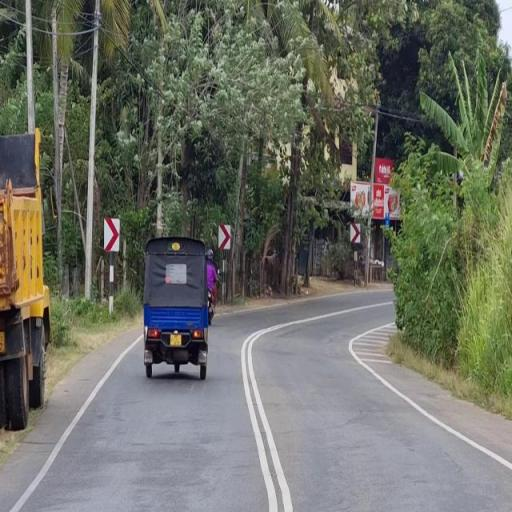double_white_line: (346, 326, 510, 474), (240, 324, 289, 511)
